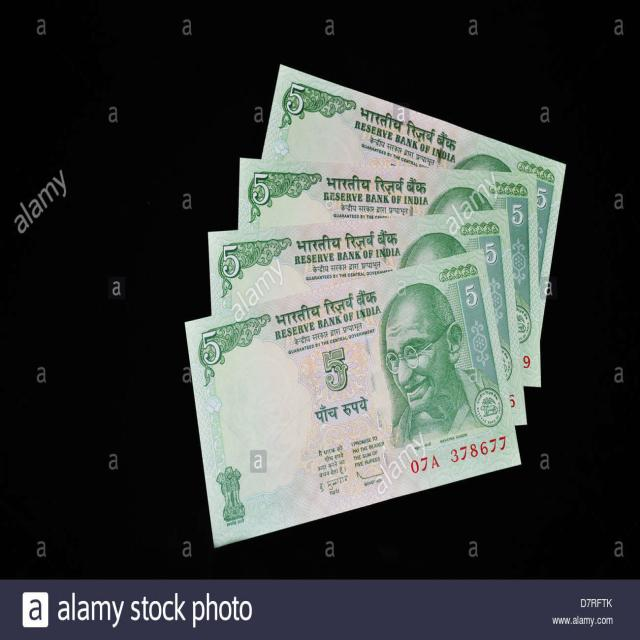5IndianRupees: (182, 274, 502, 537)
